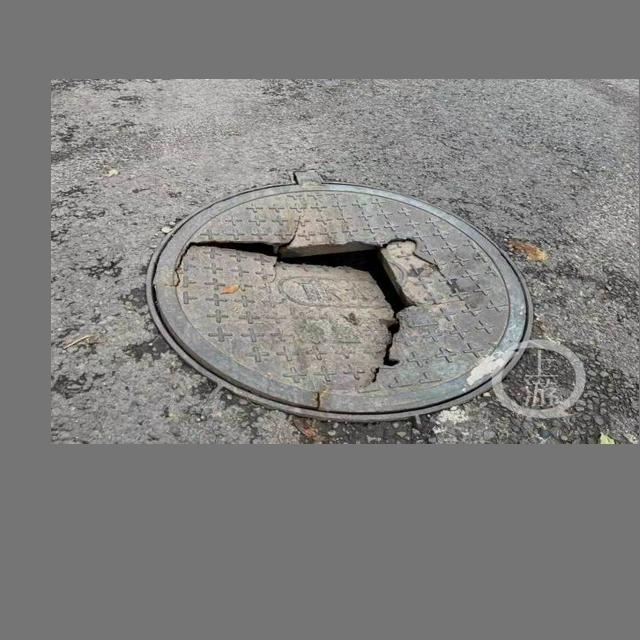broke: (136, 171, 535, 429)
